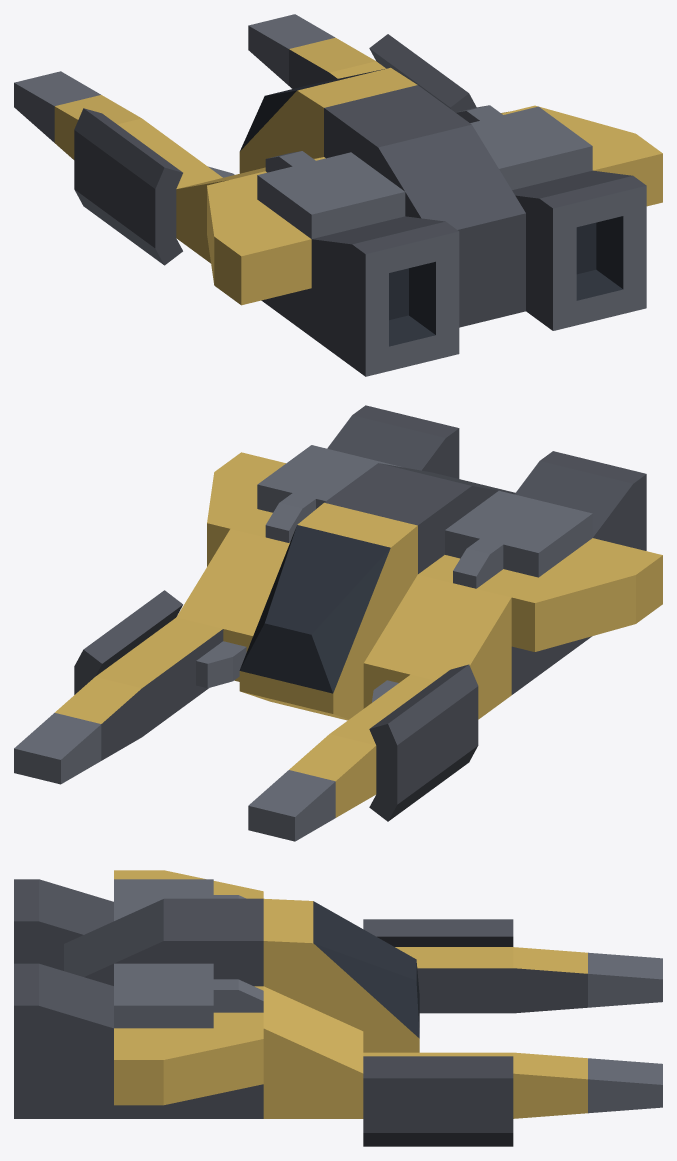
File: drone_collector.glb
3 renders of one model, top to bottom at view 1: azimuth 30°, elevation 25°; view 2: azimuth 150°, elevation 25°; view 3: azimuth 270°, elevation 25°, orthographic. The views are drawn at different scales.
Visible parts, largest first — view 1: body; view 2: body; view 3: body.
Part boxes in pixels (x1,y1,x2,y2): body: (14, 14, 662, 376); body: (14, 405, 662, 841); body: (14, 870, 662, 1146).
Size of the model in its own units: 0.6923 by 0.2692 by 1.
